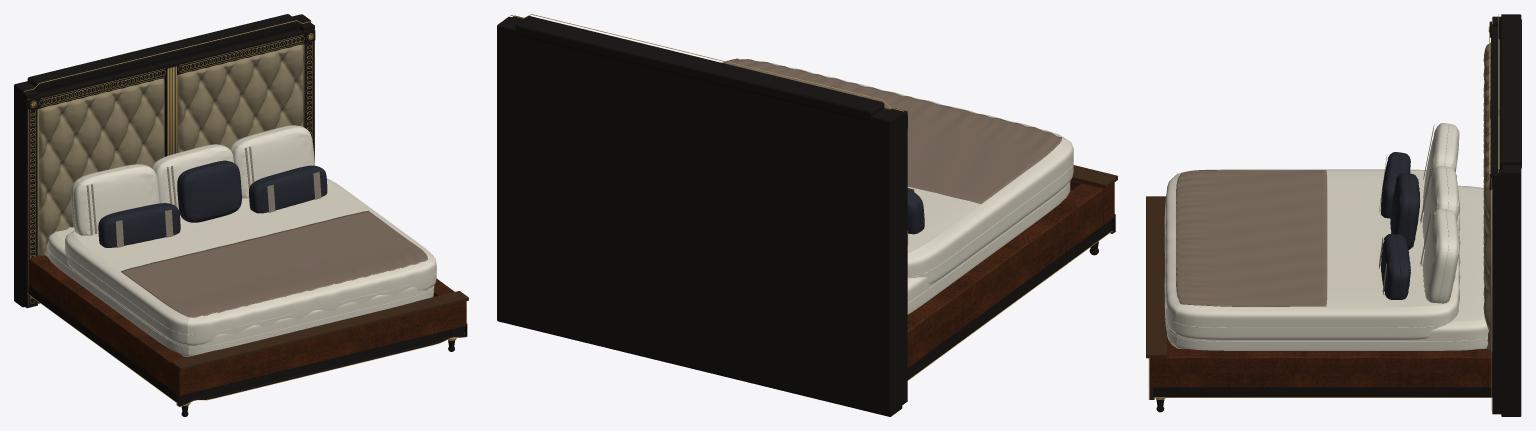
The picture shows the model from 3 angles, left to right: view 1: azimuth 30°, elevation 25°; view 2: azimuth 150°, elevation 25°; view 3: azimuth 270°, elevation 25°; orthographic projection. The views are drawn at different scales.
Visible parts, largest first — view 1: Nantes upholstered bed | 50381.0 | bedroom-27 web batch; view 2: Nantes upholstered bed | 50381.0 | bedroom-27 web batch; view 3: Nantes upholstered bed | 50381.0 | bedroom-27 web batch.
Boxes of the visible parts, <box> form: Nantes upholstered bed | 50381.0 | bedroom-27 web batch: <box>14,14,468,416</box>; Nantes upholstered bed | 50381.0 | bedroom-27 web batch: <box>497,14,1117,416</box>; Nantes upholstered bed | 50381.0 | bedroom-27 web batch: <box>1146,14,1521,416</box>.
Size of the model in its own units: 2.18 by 1.6 by 2.18.
13 materials, 3 textured.
